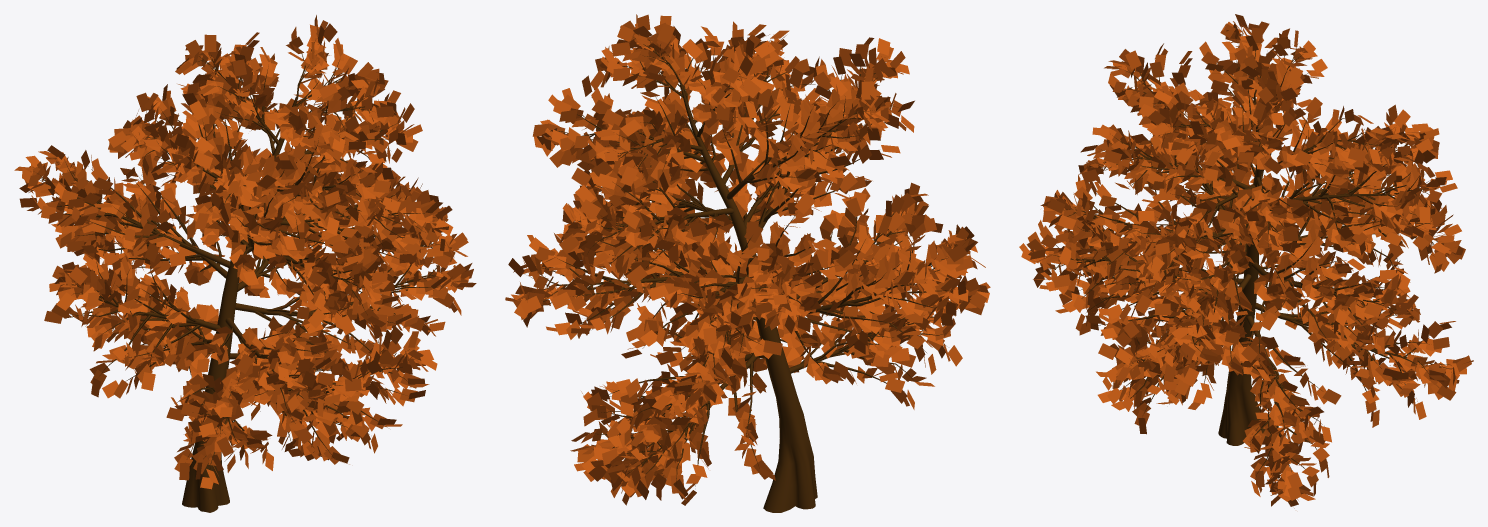
Rendered from Generic_oak.FBX.
3 renders of one model, left to right at view 1: azimuth 30°, elevation 25°; view 2: azimuth 150°, elevation 25°; view 3: azimuth 270°, elevation 25°, orthographic. The views are drawn at different scales.
Visible parts, largest first — view 1: Generic_oak; view 2: Generic_oak; view 3: Generic_oak.
Part boxes in pixels (x1,y1,x2,y2): Generic_oak: (14,15,476,512); Generic_oak: (505,14,990,512); Generic_oak: (1019,14,1473,508).
Size of the model in its own units: 408 by 431 by 420.
